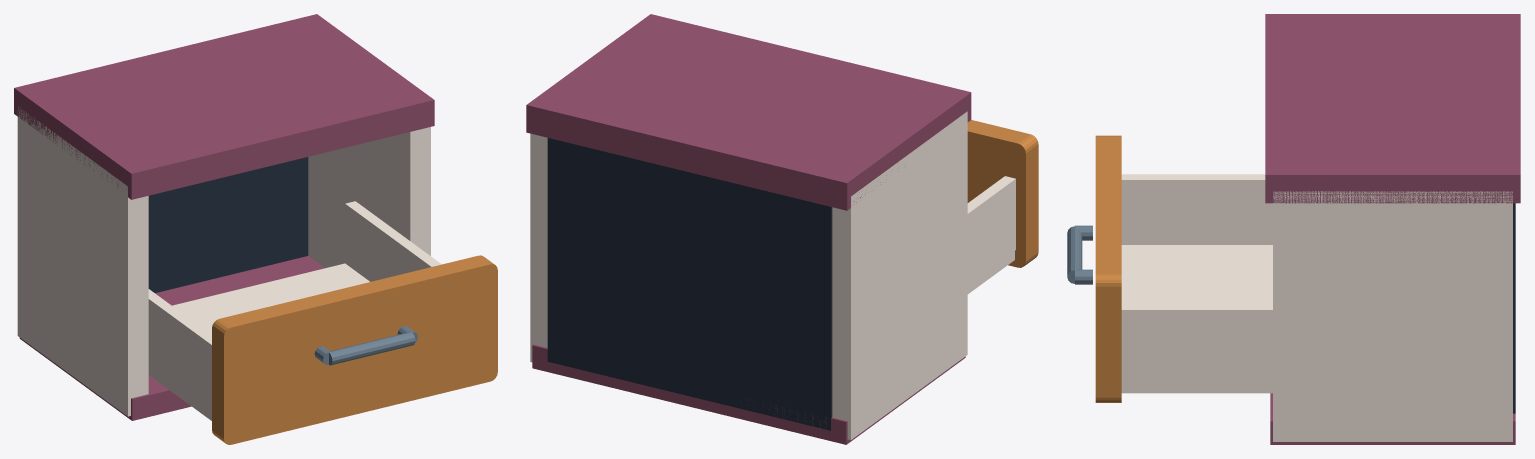
File: drawer.glb
3 renders of one model, left to right at view 1: azimuth 30°, elevation 25°; view 2: azimuth 150°, elevation 25°; view 3: azimuth 270°, elevation 25°, orthographic. The views are drawn at different scales.
Visible parts, largest first — view 1: top, drawer front, side -0.68, back, side 0.68, tray, tray side -0.59, tray side 0.59, bottom, drawer grip1; view 2: back, top, side -0.68, drawer front, bottom, tray side -0.59, side 0.68; view 3: side 0.68, top, tray side 0.59, tray, tray side -0.59, drawer front, bottom, drawer grip1, back.
Part boxes in pixels (x1,y1,x2,y2): top: [14, 14, 434, 199]; drawer front: [212, 255, 497, 444]; side -0.68: [17, 106, 148, 416]; back: [148, 157, 308, 292]; side 0.68: [308, 127, 430, 268]; tray: [148, 263, 369, 420]; tray side -0.59: [148, 289, 211, 411]; tray side 0.59: [345, 201, 441, 281]; bottom: [19, 256, 324, 420]; drawer grip1: [329, 332, 415, 365]; back: [547, 138, 832, 430]; top: [526, 14, 971, 210]; side -0.68: [832, 111, 967, 439]; drawer front: [967, 120, 1038, 267]; bottom: [532, 344, 965, 444]; tray side -0.59: [967, 176, 1015, 284]; side 0.68: [530, 133, 547, 362]; side 0.68: [1273, 191, 1512, 441]; top: [1265, 14, 1520, 203]; tray side 0.59: [1121, 304, 1272, 383]; tray: [1121, 245, 1272, 393]; tray side -0.59: [1121, 174, 1272, 244]; drawer front: [1095, 135, 1121, 402]; bottom: [1270, 393, 1515, 444]; drawer grip1: [1067, 226, 1082, 283]; back: [1513, 203, 1515, 413].
Bounding box in the file's own units: 1.46 × 1.15 × 1.74.
